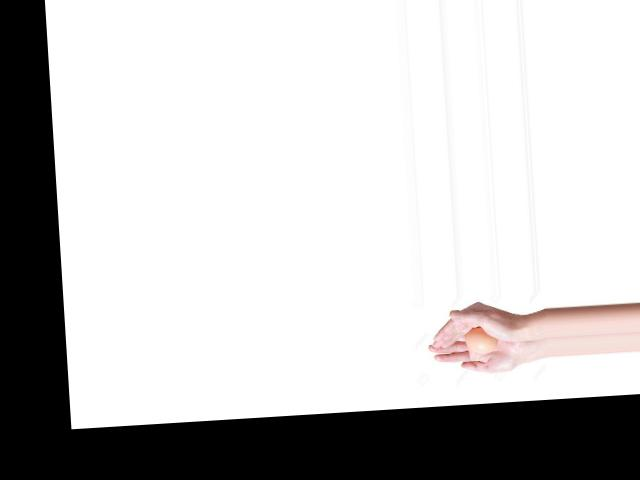egg: (464, 326, 496, 353)
